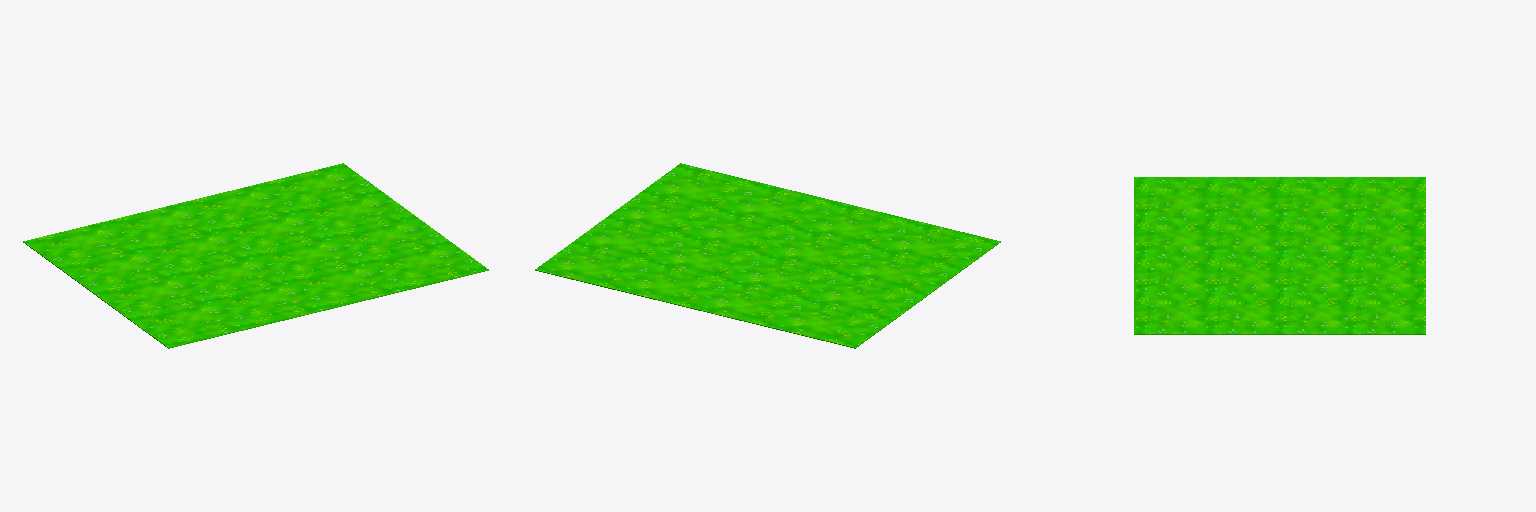
3 views of the same model, side by side, from view 1: azimuth 30°, elevation 25°; view 2: azimuth 150°, elevation 25°; view 3: azimuth 270°, elevation 25° (orthographic).
Parts seen in each view (by area): view 1: Cube; view 2: Cube; view 3: Cube.
Part boxes in pixels (left/top/right/bottom): Cube: left=23, top=163, right=488, bottom=348; Cube: left=535, top=163, right=1000, bottom=348; Cube: left=1134, top=177, right=1425, bottom=334.
Bounding box in the file's own units: 231 × 0.5538 × 182.
1 materials, 1 textured.